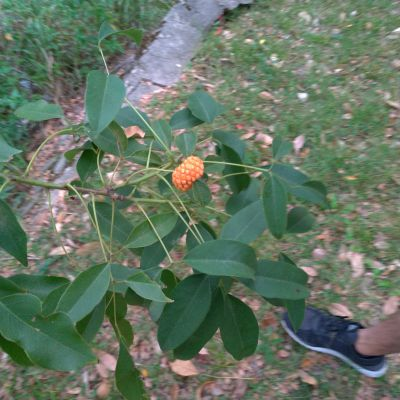eggs: (169, 154, 207, 192)
